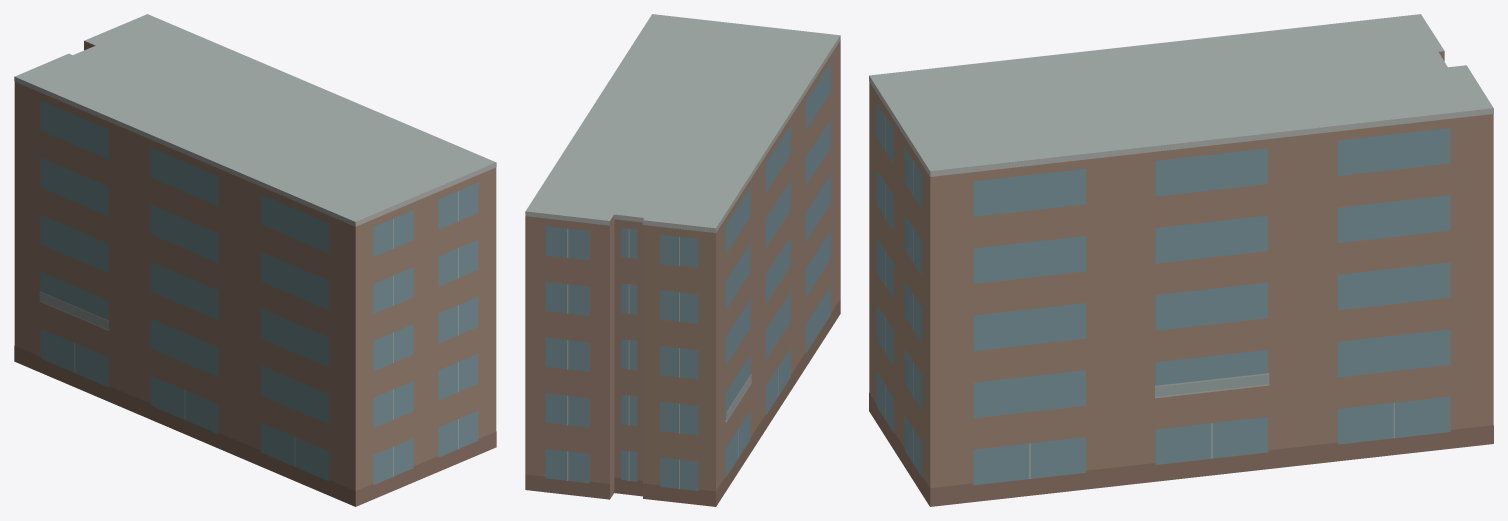
Rendered from survey-upis-32614400.glb.
3 views of the same model, side by side, from view 1: azimuth 30°, elevation 25°; view 2: azimuth 150°, elevation 25°; view 3: azimuth 270°, elevation 25° (orthographic). The views are drawn at different scales.
Parts seen in each view (by area): view 1: survey-upis-32614400.tmp; view 2: survey-upis-32614400.tmp; view 3: survey-upis-32614400.tmp.
Part boxes in pixels (x1,y1,x2,y2): survey-upis-32614400.tmp: (14, 14, 496, 506); survey-upis-32614400.tmp: (525, 14, 840, 506); survey-upis-32614400.tmp: (869, 14, 1493, 506).
Bounding box in the file's own units: 14.48 × 14.4 × 24.3.
